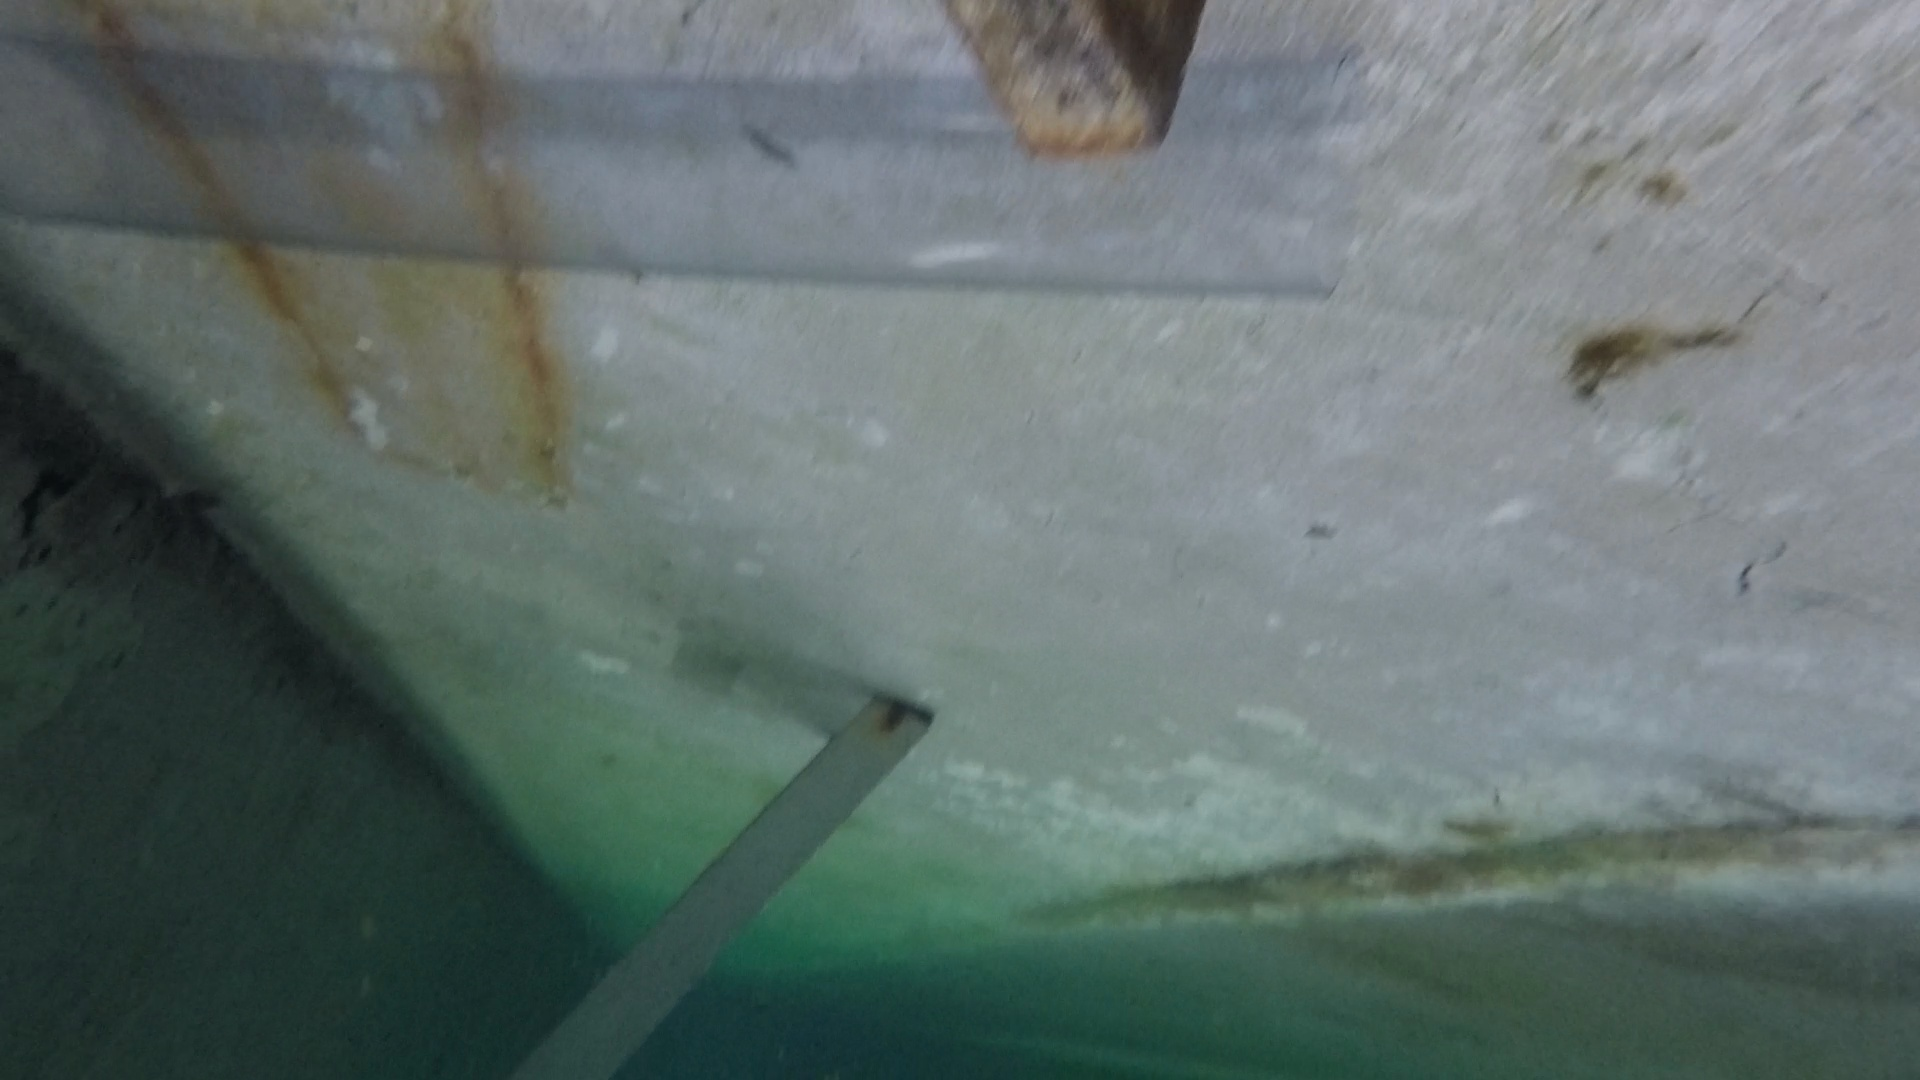led_block: (943, 1, 1207, 164)
pipe: (1, 40, 1364, 302)
